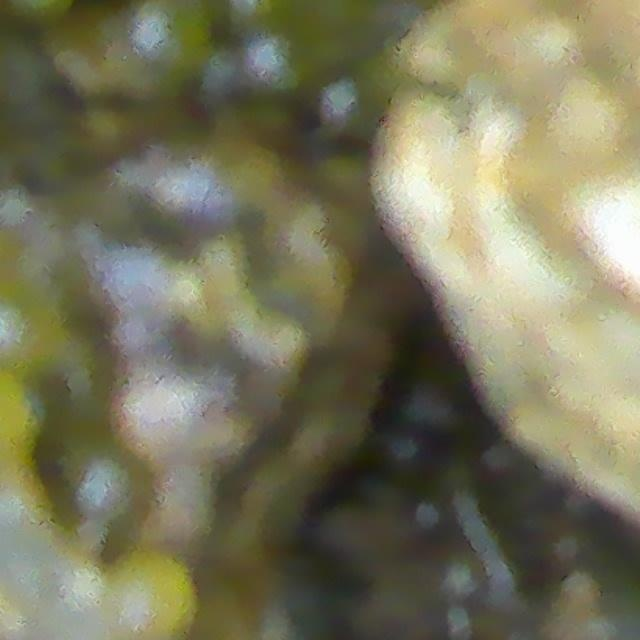SeaGrape: (106, 545, 202, 640), (135, 0, 214, 73)
